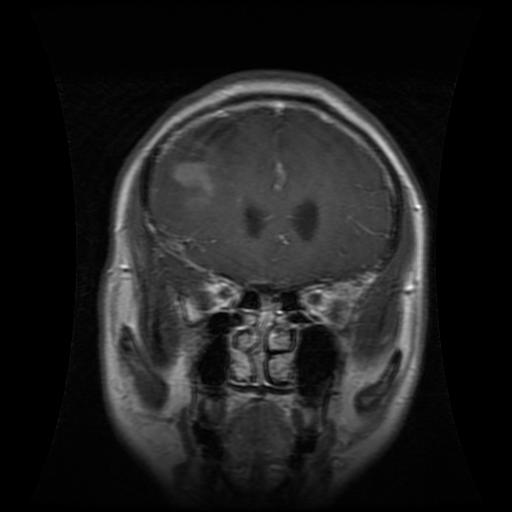Gliomia_tumour: (168, 113, 245, 210)
